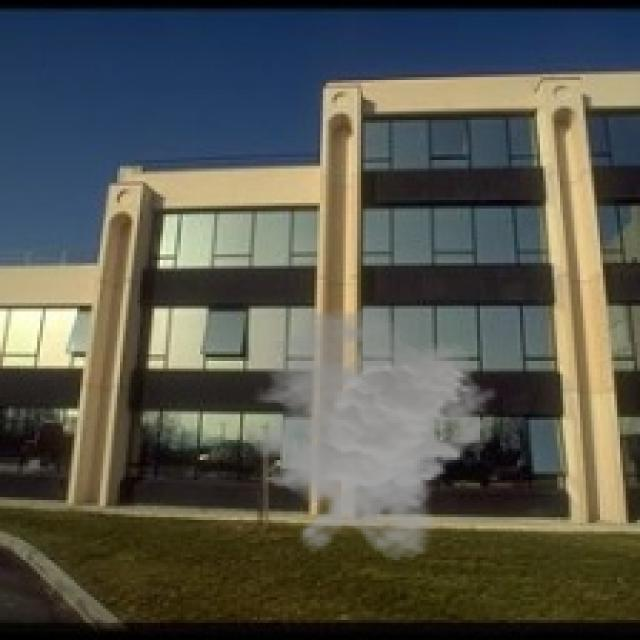smoke: (229, 306, 500, 563)
